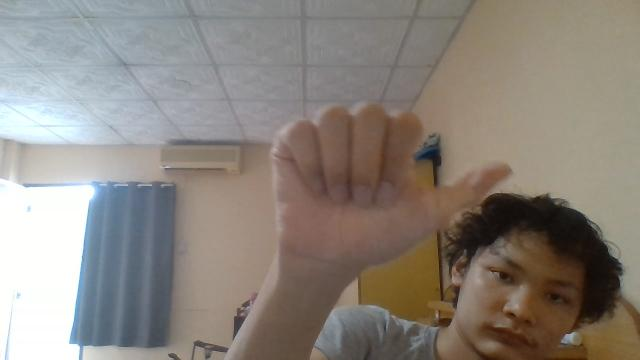left: (268, 100, 512, 276)
